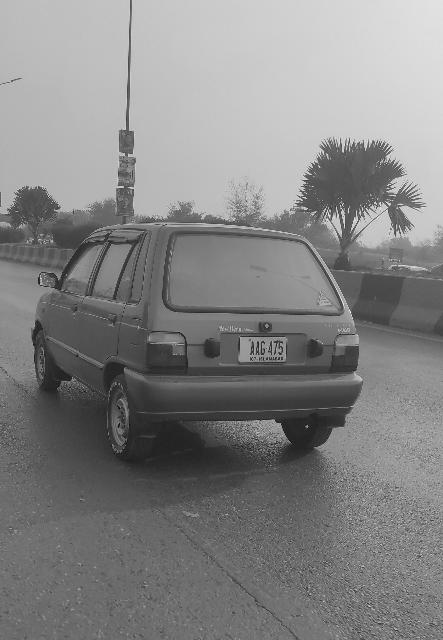Number: (250, 341, 286, 357)
